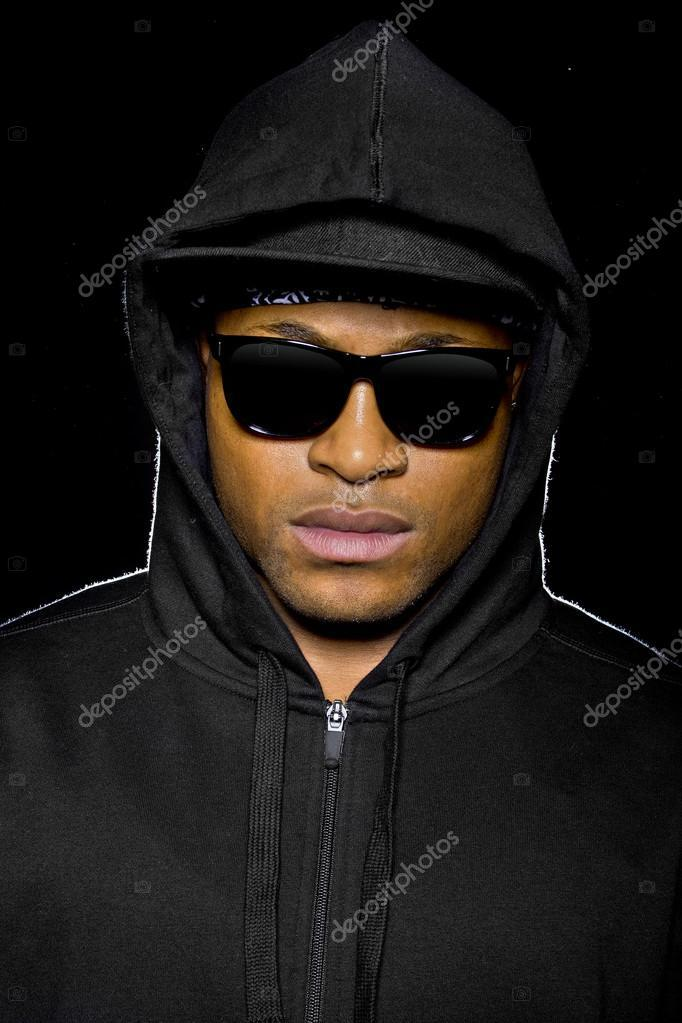cap: (93, 13, 630, 355)
sunglasses: (198, 315, 523, 468)
